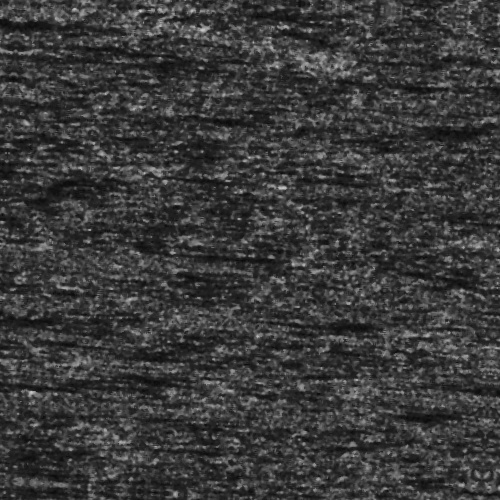shadow: (429, 200, 500, 205)
